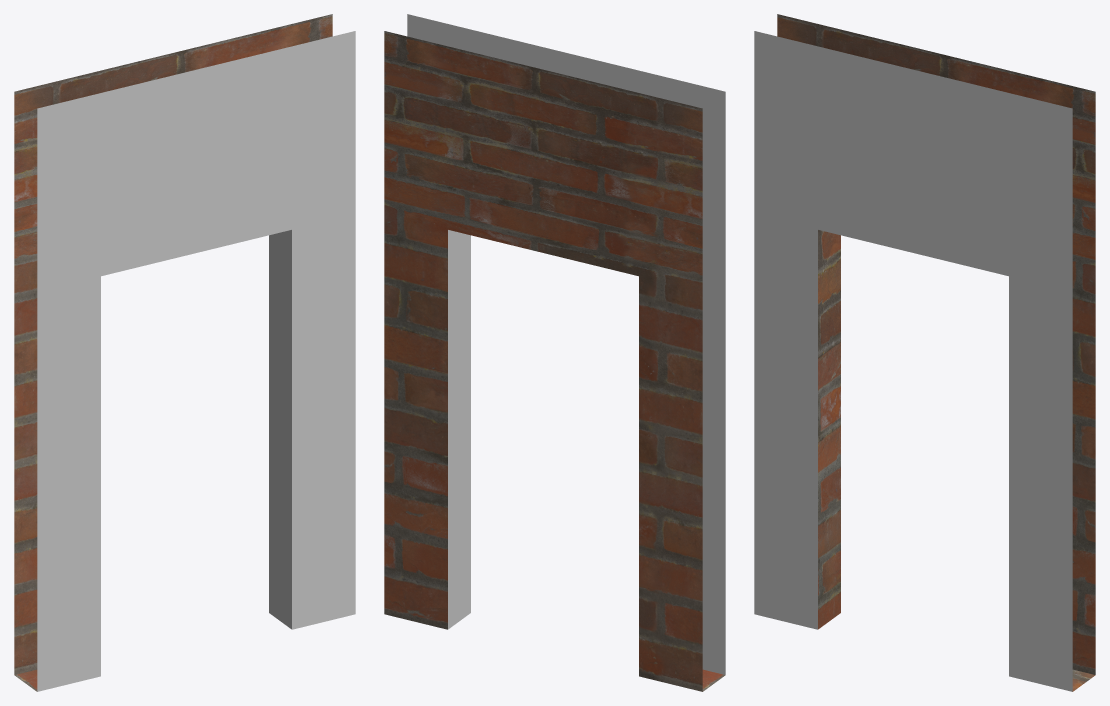
The model's file is Wall_door_hole_incomplete.fbx.
3 views of the same model, side by side, from view 1: azimuth 30°, elevation 25°; view 2: azimuth 150°, elevation 25°; view 3: azimuth 330°, elevation 25° (orthographic).
Parts seen in each view (by area): view 1: Wall door hole_incomplete; view 2: Wall door hole_incomplete; view 3: Wall door hole_incomplete.
Part boxes in pixels (x1,y1,x2,y2): Wall door hole_incomplete: (14, 14, 355, 691); Wall door hole_incomplete: (384, 14, 725, 691); Wall door hole_incomplete: (754, 14, 1095, 691).
Size of the model in its own units: 400 by 700 by 50.
